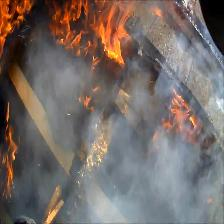fire: (1, 2, 118, 47)
smoke: (126, 140, 201, 223)
